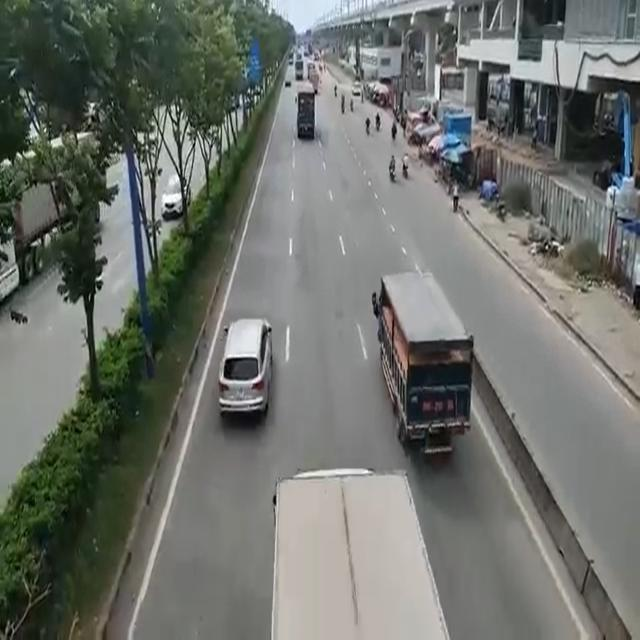car: (225, 317, 261, 427)
truck: (272, 467, 440, 640), (374, 272, 475, 458)
